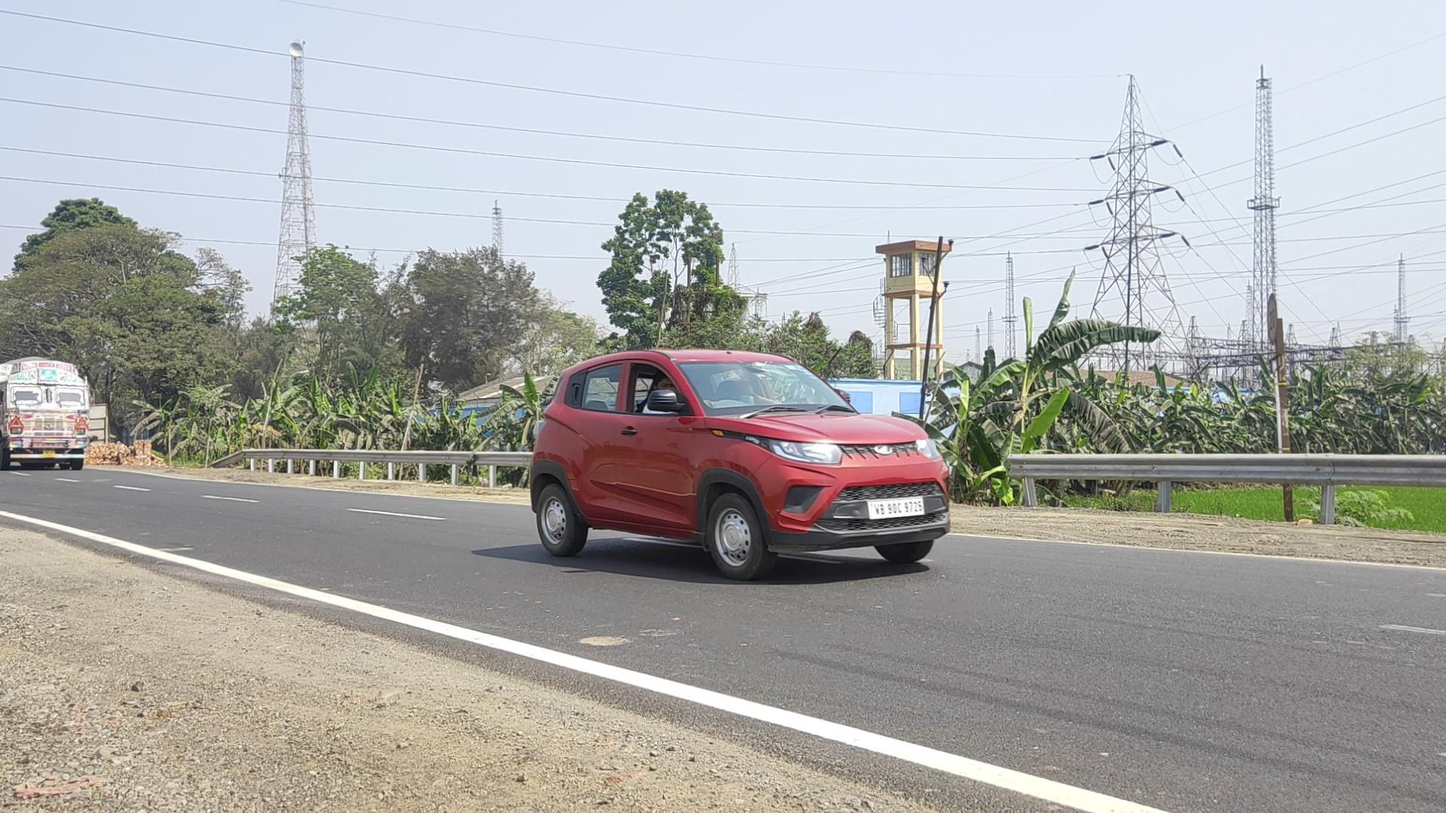car: (530, 349, 950, 583)
truck: (1, 357, 90, 473)
